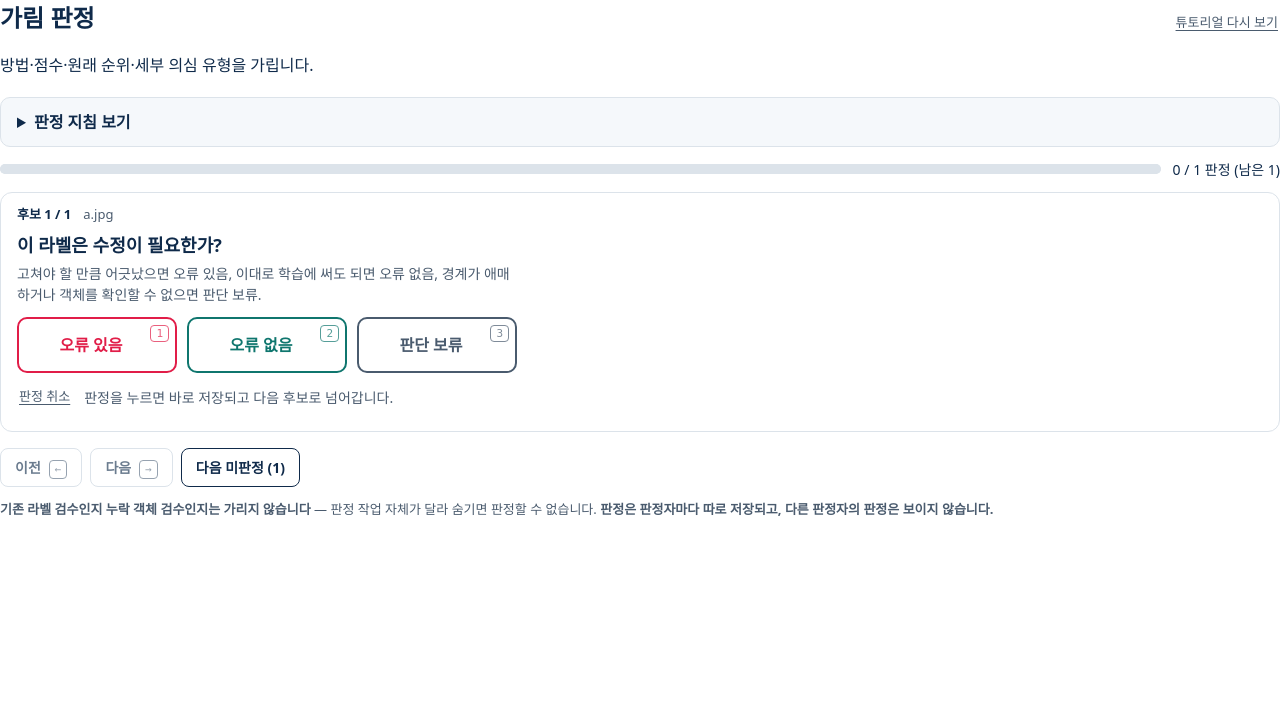
Test case: 첫 방문 튜토리얼 › 이미 봤으면 안 뜨고, 다시 보기로 열 수 있다
The image size is (1280, 720).
Check: the text "a.jpg" is shown, box [83,204,113,224]
Click the button "튜토리얼 다시 보기" at (1227, 23), box [1174,9,1279,36]
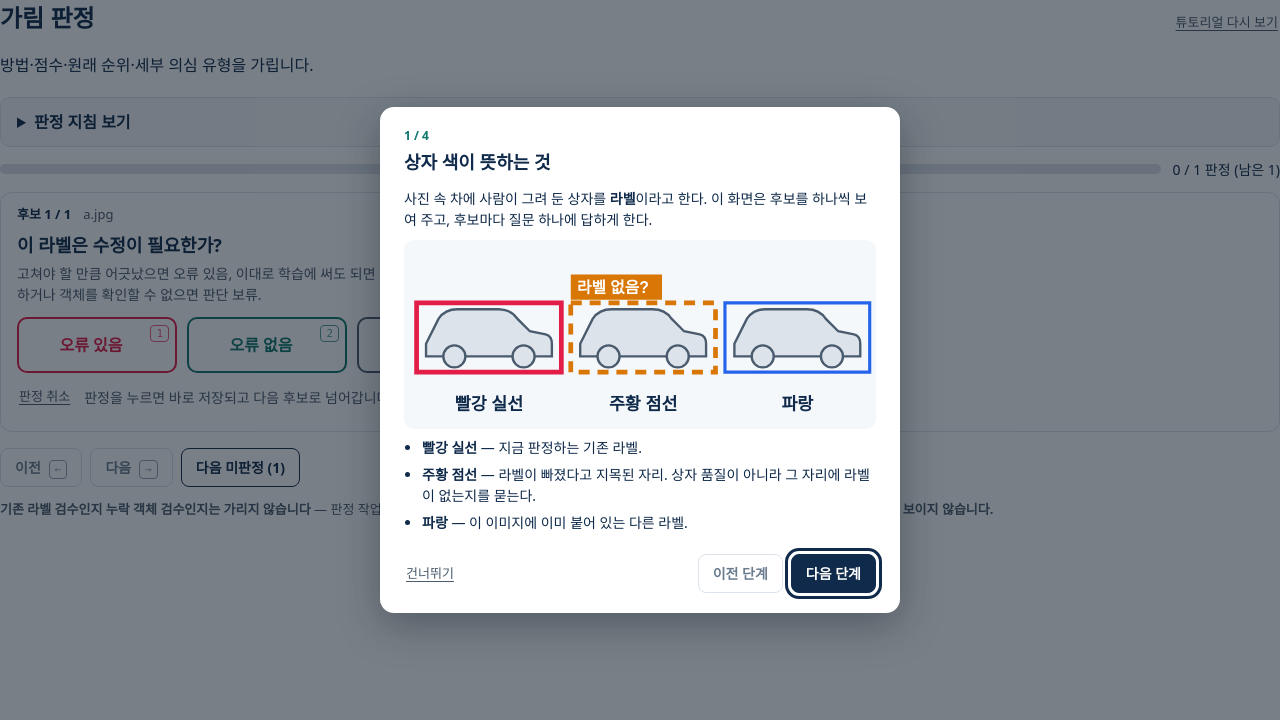
Check: the dialog is shown, box [380,107,900,613]
Click the button "건너뛰기" at (430, 574), box [404,560,456,587]
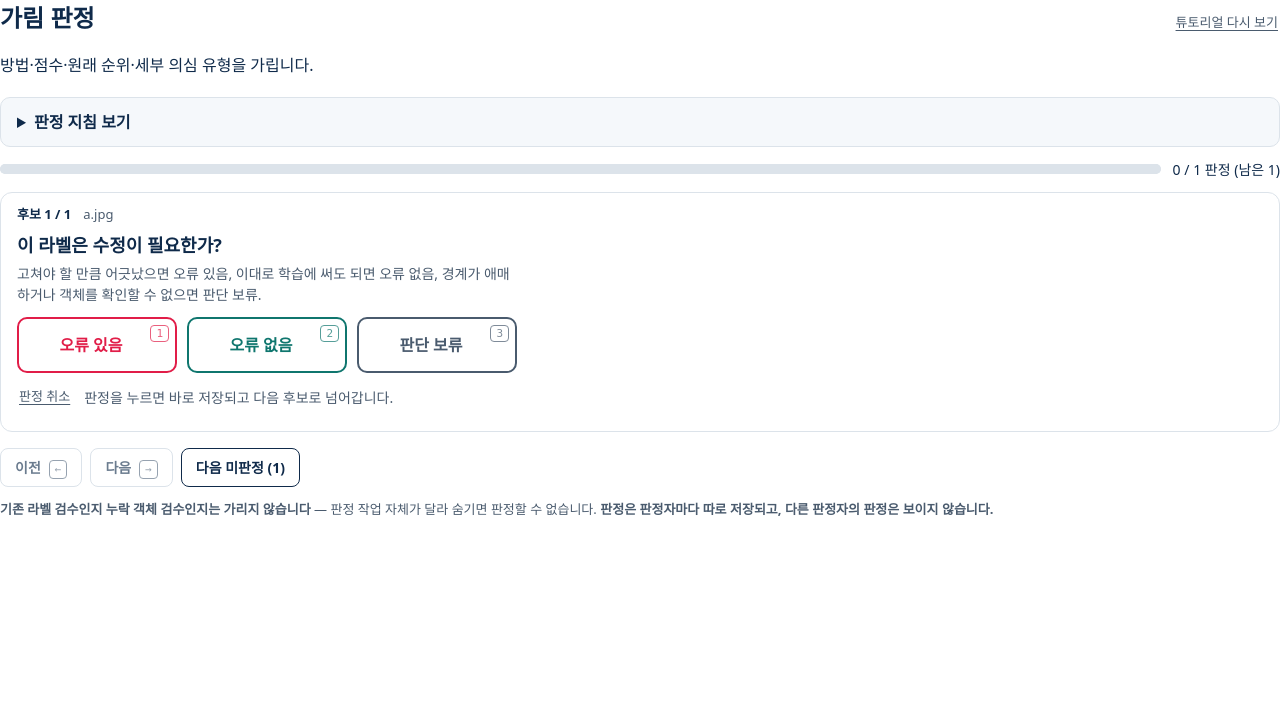
Check: the dialog is gone
